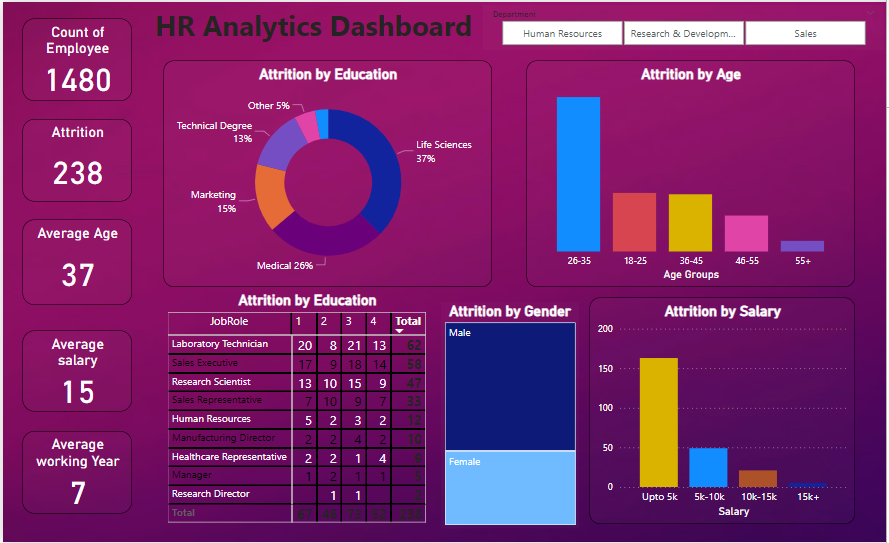

The dashboard page shown, as its layout file describes it:
{"tool":"powerbi","page":{"name":"Page 1","canvas":[1280,720],"ordinal":0},"visuals":[{"type":"textbox","box":[152,0,524,64],"z":0},{"type":"card","title":"Average Age","fields":{"Values":["Avg(HR_Analytics (1).Age)"]},"box":[26,290,146,114],"z":1000},{"type":"card","title":"Average salary","fields":{"Values":["Avg(HR_Analytics (1).PercentSalaryHike)"]},"box":[26,438,146,108],"z":2000},{"type":"card","title":"Attrition","fields":{"Values":["CountNonNull(HR_Analytics (1).AttritionCount)"]},"box":[26,156,146,110],"z":3000},{"type":"card","title":"Count of Employee","fields":{"Values":["CountNonNull(HR_Analytics (1).EmpID)"]},"box":[26,22,146,110],"z":4000},{"type":"card","title":"Average working Year","fields":{"Values":["Avg(HR_Analytics (1).YearsAtCompany)"]},"box":[26,572,146,110],"z":5000},{"type":"donutChart","title":"Attrition by Education","fields":{"Category":["HR_Analytics (1).EducationField"],"Y":["CountNonNull(HR_Analytics (1).AttritionCount)"]},"box":[214,78,438,302],"z":6000},{"type":"columnChart","title":"Attrition by Salary","fields":{"Category":["HR_Analytics (1).SalarySlab"],"Y":["CountNonNull(HR_Analytics (1).AttritionCount)"]},"box":[782,394,354,302],"z":7000},{"type":"pivotTable","title":"Attrition by Education","fields":{"Values":["CountNonNull(HR_Analytics (1).AttritionCount)"],"Rows":["HR_Analytics (1).JobRole"],"Columns":["HR_Analytics (1).JobSatisfaction"]},"box":[214,386,384,326],"z":8000},{"type":"columnChart","title":"Attrition by Age","fields":{"Category":["HR_Analytics (1).AgeGroup"],"Y":["CountNonNull(HR_Analytics (1).AttritionCount)"]},"box":[698,78,438,302],"z":9000},{"type":"treemap","title":"Attrition by Gender","fields":{"Group":["HR_Analytics (1).Gender"],"Values":["CountNonNull(HR_Analytics (1).AttritionCount)"]},"box":[584,400,184,302],"z":10000},{"type":"slicer","fields":{"Values":["HR_Analytics (1).Department"]},"box":[640,4,534,60],"z":10001}]}

Visuals, with their boxes on the page's 1280x720 design canvas (x1, y1, x2, y2). These are canvas units, not pixel positions in the 889x543 screenshot, which may show the page scaled, cropped or inside an application window:
textbox: BBox(152, 0, 676, 64)
"Average Age" card: BBox(26, 290, 172, 404)
"Average salary" card: BBox(26, 438, 172, 546)
"Attrition" card: BBox(26, 156, 172, 266)
"Count of Employee" card: BBox(26, 22, 172, 132)
"Average working Year" card: BBox(26, 572, 172, 682)
"Attrition by Education" donutChart: BBox(214, 78, 652, 380)
"Attrition by Salary" columnChart: BBox(782, 394, 1136, 696)
"Attrition by Education" pivotTable: BBox(214, 386, 598, 712)
"Attrition by Age" columnChart: BBox(698, 78, 1136, 380)
"Attrition by Gender" treemap: BBox(584, 400, 768, 702)
slicer - HR_Analytics (1).Department: BBox(640, 4, 1174, 64)
